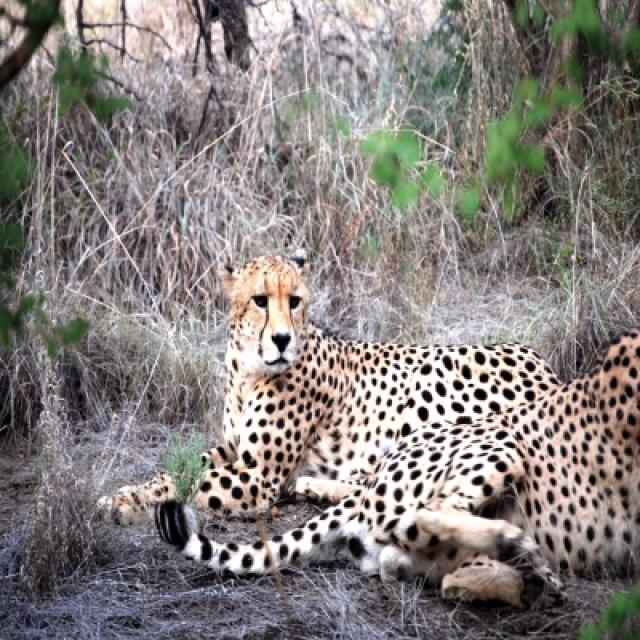Cheetah: (112, 256, 638, 611)
